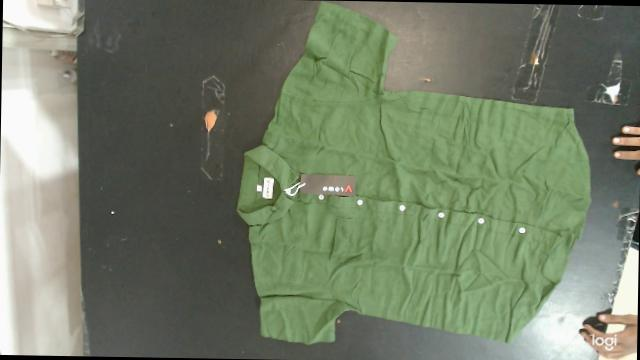new-garment: (237, 2, 590, 343)
